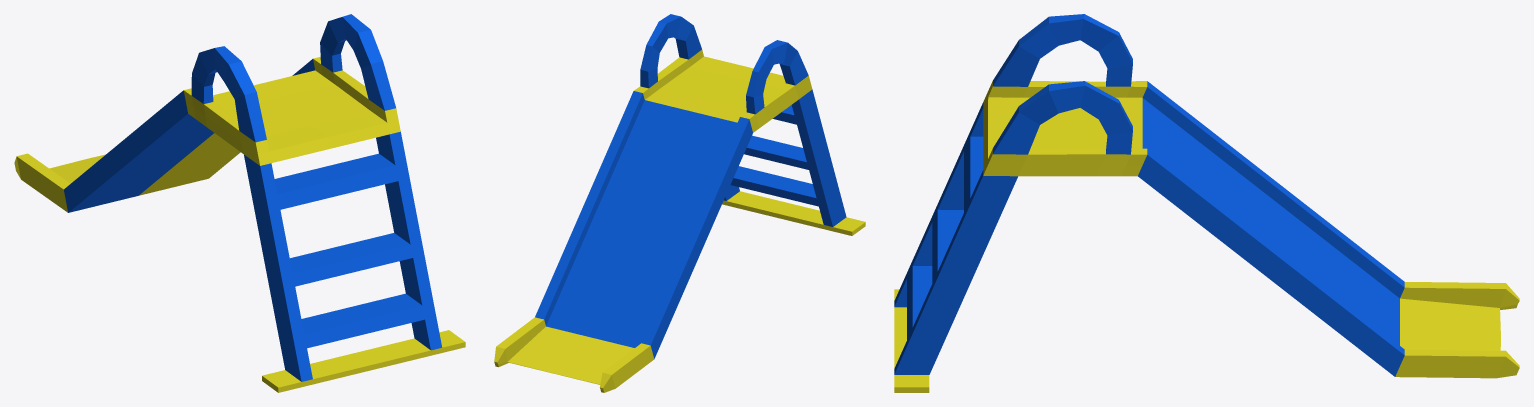
Rendered from Slide2.fbx.
3 views of the same model, side by side, from view 1: azimuth 30°, elevation 25°; view 2: azimuth 150°, elevation 25°; view 3: azimuth 270°, elevation 25° (orthographic). The views are drawn at different scales.
Parts seen in each view (by area): view 1: Cube; view 2: Cube; view 3: Cube.
Boxes of the visible parts, <box> form: Cube: <box>14,14,465,392</box>; Cube: <box>494,14,865,392</box>; Cube: <box>894,14,1519,392</box>.
Size of the model in its own units: 1314 by 1839 by 3545.
